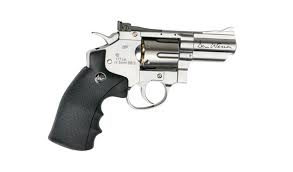Arma Real: (47, 19, 239, 154)
